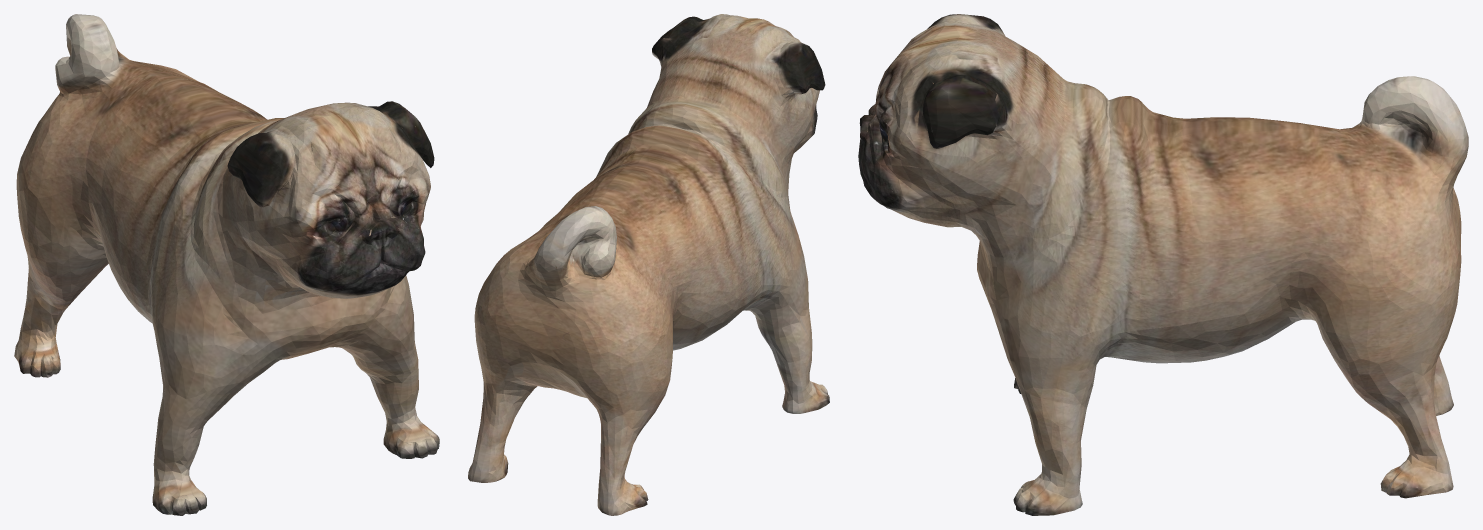
The model's file is Pug.fbx.
3 views of the same model, side by side, from view 1: azimuth 30°, elevation 25°; view 2: azimuth 150°, elevation 25°; view 3: azimuth 270°, elevation 25° (orthographic). The views are drawn at different scales.
Visible parts, largest first — view 1: Pug_FBX; view 2: Pug_FBX; view 3: Pug_FBX.
Boxes of the visible parts, <box> form: Pug_FBX: <box>14,14,439,515</box>; Pug_FBX: <box>468,14,829,515</box>; Pug_FBX: <box>858,14,1468,515</box>.
Size of the model in its own units: 237 by 318 by 431.
1 material, 1 textured.
